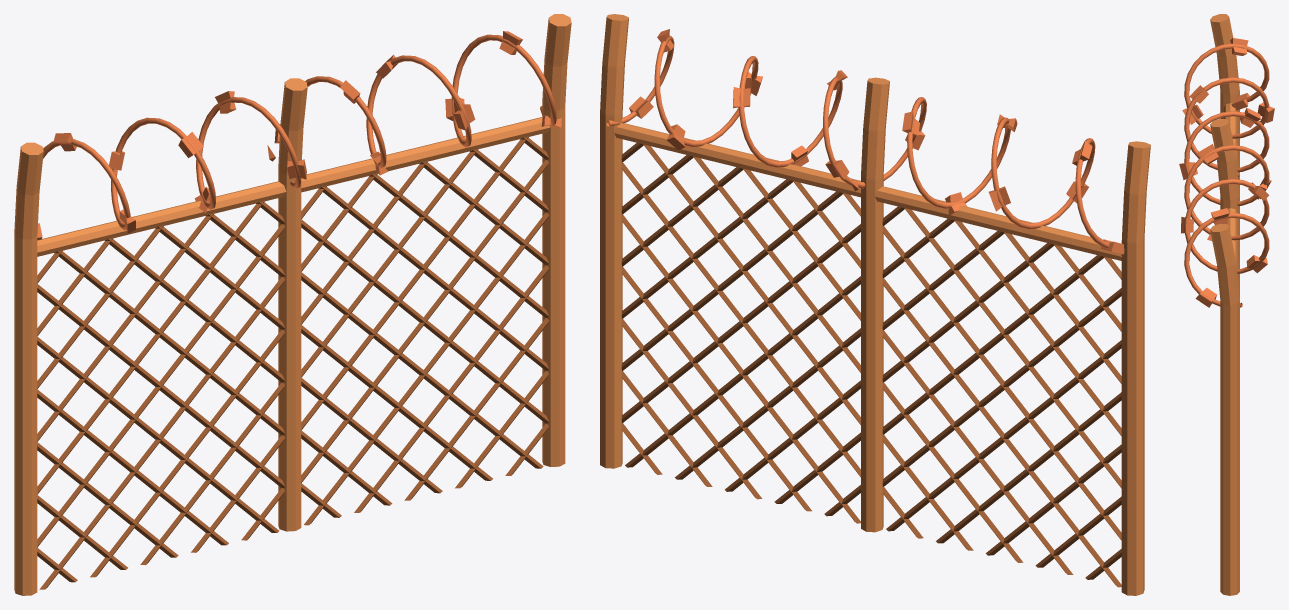
The model's file is Fence_Wire_4_1.fbx.
The picture shows the model from 3 angles, left to right: view 1: azimuth 30°, elevation 25°; view 2: azimuth 150°, elevation 25°; view 3: azimuth 270°, elevation 25°; orthographic projection. The views are drawn at different scales.
Visible parts, largest first — view 1: Fence_Wire_4_1; view 2: Fence_Wire_4_1; view 3: Fence_Wire_4_1.
Boxes of the visible parts, x1,y1,x2,y2 form: Fence_Wire_4_1: (14, 14, 571, 595); Fence_Wire_4_1: (600, 14, 1150, 595); Fence_Wire_4_1: (1179, 14, 1274, 595).
Size of the model in its own units: 385 by 301 by 71.37.
